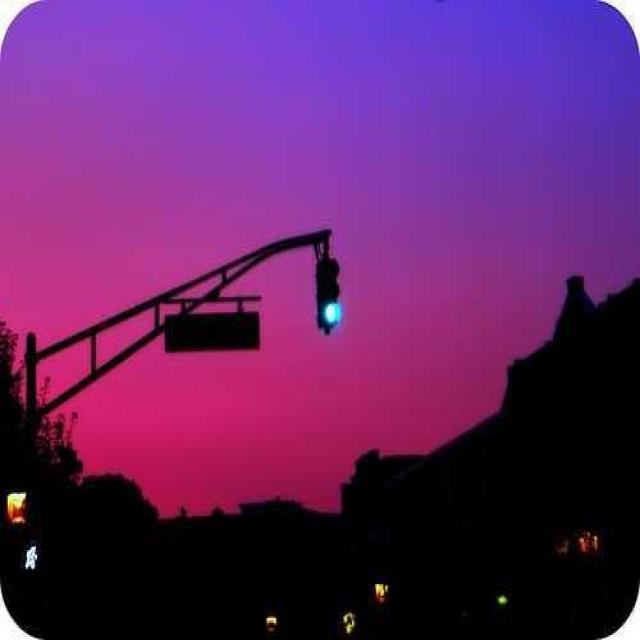Traffic Light -Green-: (314, 254, 346, 334)
